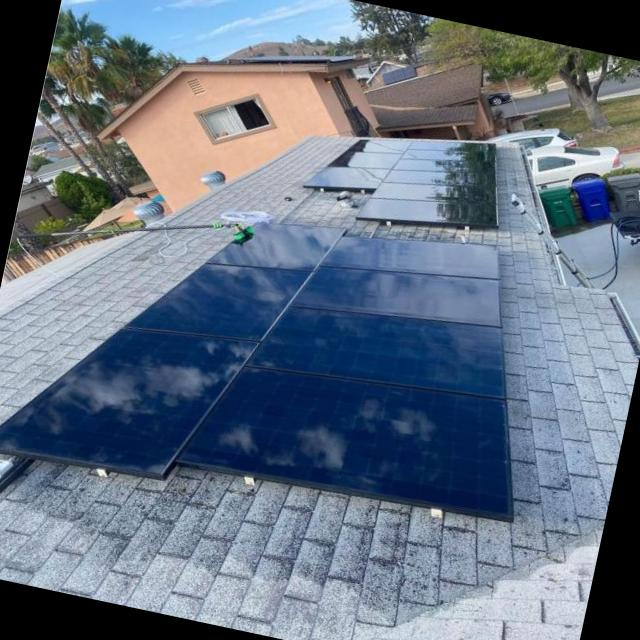no faulty: (178, 365, 508, 515), (0, 327, 254, 479), (246, 307, 503, 397), (128, 264, 308, 343), (294, 267, 499, 328), (315, 237, 495, 277), (210, 221, 342, 269), (355, 197, 495, 225), (370, 181, 494, 206), (301, 167, 390, 190)
